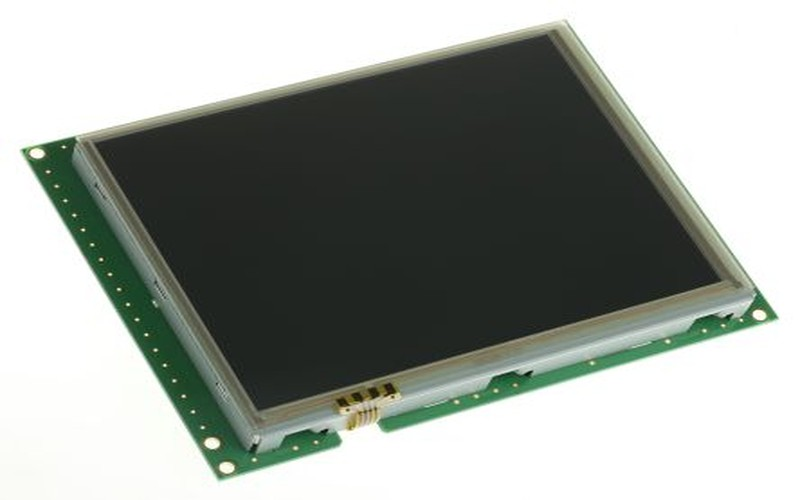LCD: (49, 20, 766, 456)
